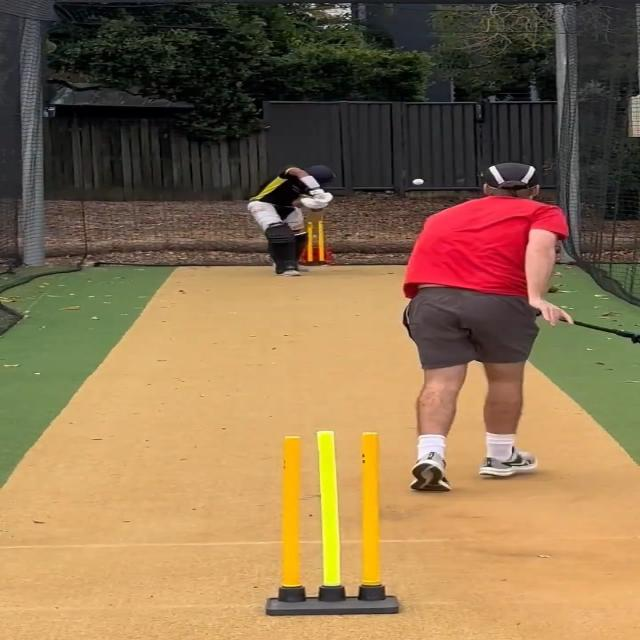ball: (411, 177, 426, 186)
stump: (263, 427, 402, 616)
